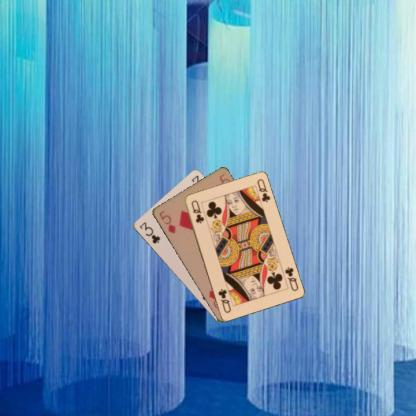3c: (137, 219, 161, 245)
5d: (156, 208, 177, 235)
Qc: (282, 264, 299, 292), (188, 198, 205, 224)
